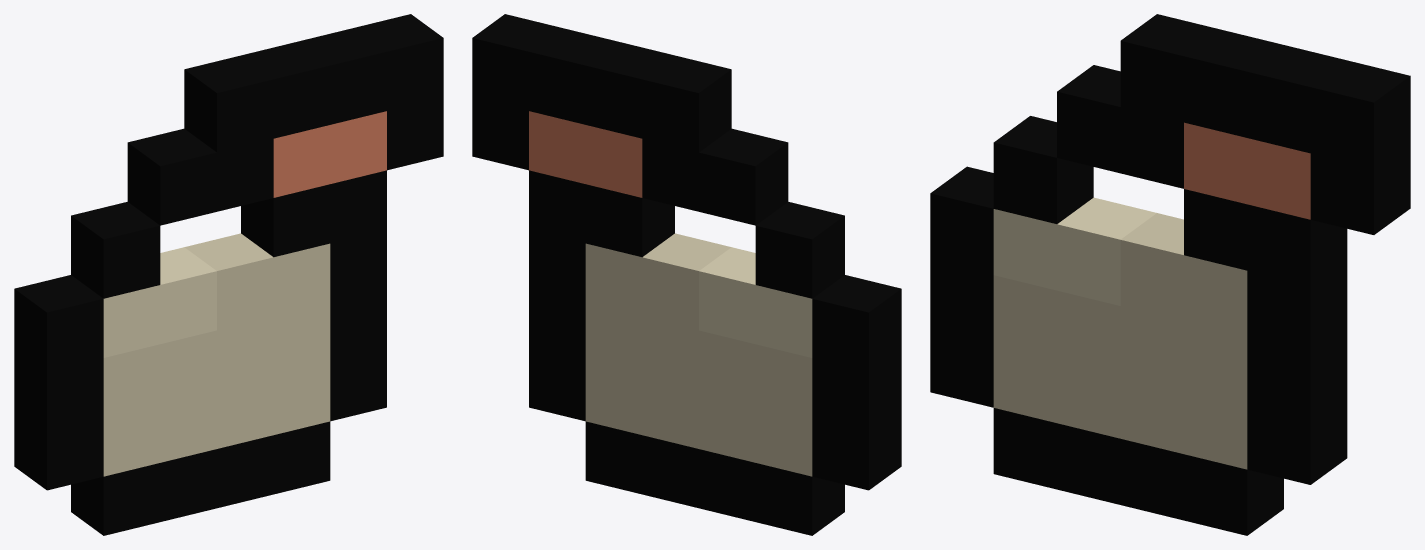
Rendered from Splash Milk Potion.glb.
The picture shows the model from 3 angles, left to right: view 1: azimuth 30°, elevation 25°; view 2: azimuth 150°, elevation 25°; view 3: azimuth 330°, elevation 25°; orthographic projection. The views are drawn at different scales.
Parts seen in each view (by area): view 1: generated(Clone); view 2: generated(Clone); view 3: generated(Clone).
Boxes of the visible parts, x1=… form: generated(Clone): x1=14, y1=14, x2=443, y2=535; generated(Clone): x1=472, y1=14, x2=901, y2=535; generated(Clone): x1=930, y1=14, x2=1410, y2=535.
Size of the model in its own units: 7 by 7 by 1.
Materials: 1 (1 with a texture image).
